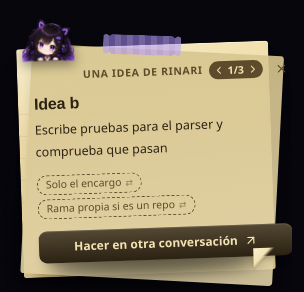
Test: StickyNote › the next note never inherits the peel when the Engine resolves first, and the owner pages through them
The width and height of the screenshot is (304, 292).
Expected: the element with test id "followup-note" shows "Idea b", [34,94,80,113]
Click the button named "Nota siguiente" at (253, 69), box [245,60,261,79]
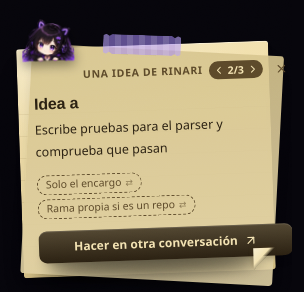
Expected: the element with test id "followup-note" shows "Idea a", [34,95,79,113]
Expected: the element with test id "followup-note" shows "2/3"
Click the button named "Nota anterior" at (219, 71), box [210,61,227,80]
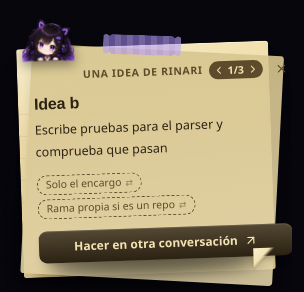
Click the button named "Nota anterior" at (219, 71), box [210,61,227,80]
(page scrolled)
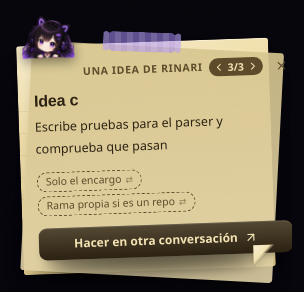
Expected: the element with test id "followup-note" shows "Idea c", [34,92,79,110]
Click the button named "Descartar la nota" at (280, 66), box [269,53,292,78]
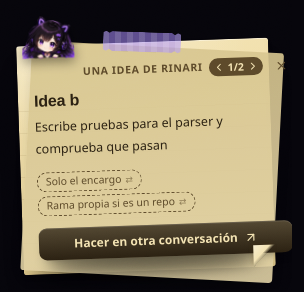
Expected: the heading with test id "followup-note" no longer shows "Idea c"
